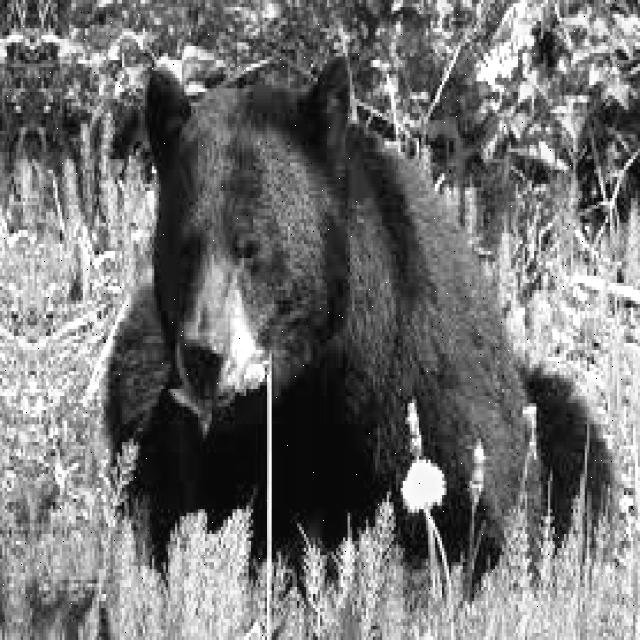bear: (96, 55, 491, 528)
